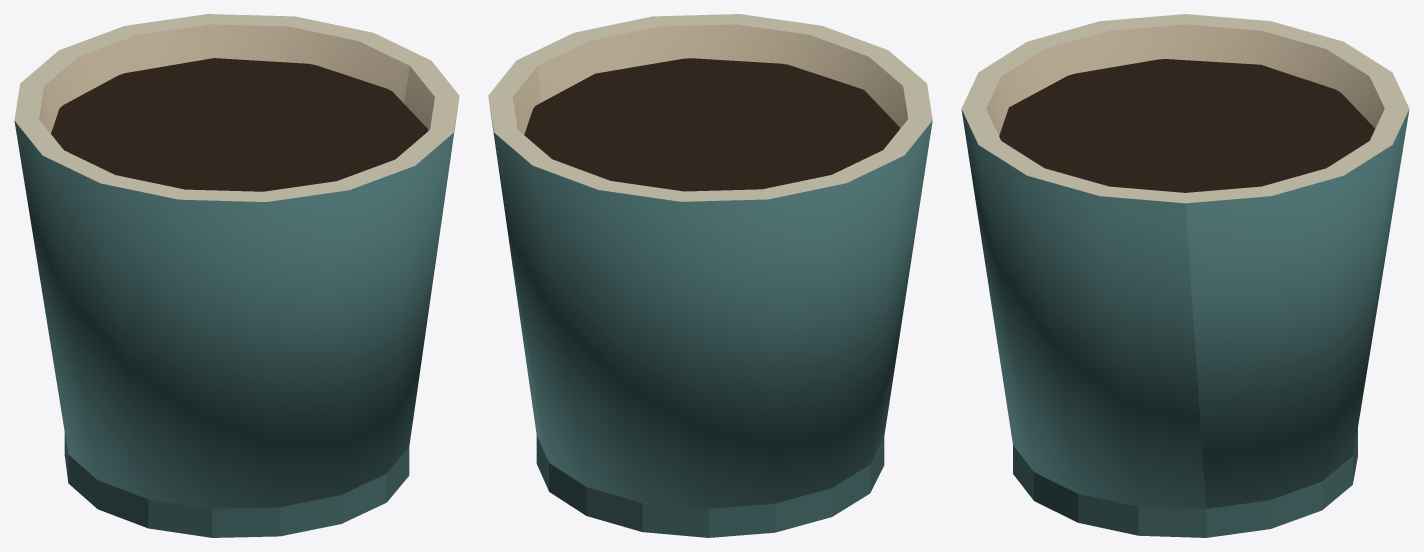
The model's file is 11_deco_plant_plantdestroyed.glb.
3 views of the same model, side by side, from view 1: azimuth 30°, elevation 25°; view 2: azimuth 150°, elevation 25°; view 3: azimuth 270°, elevation 25° (orthographic).
Parts seen in each view (by area): view 1: Pot_Plant_Destroyed; view 2: Pot_Plant_Destroyed; view 3: Pot_Plant_Destroyed.
Part boxes in pixels (<box>): Pot_Plant_Destroyed: <box>14,14,459,537</box>; Pot_Plant_Destroyed: <box>488,14,932,537</box>; Pot_Plant_Destroyed: <box>961,14,1409,537</box>.
Size of the model in its own units: 0.49 by 0.43 by 0.49.
